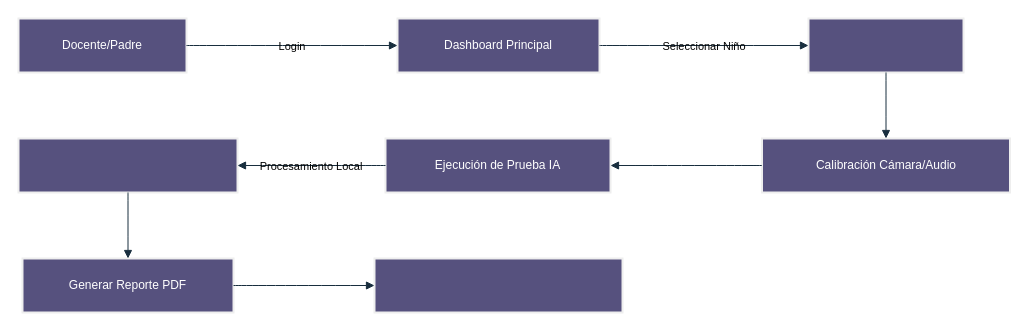
This 1028x330 diagram has some shape labels left out. The shapes that lost their labels are listed below. From the top down, each one's box as (x1, y1, x2, y2) in pixels, then its label:
(807, 17, 964, 73): Elegir Prueba
(17, 137, 238, 193): Resultados Inmediatos
(373, 257, 623, 313): Guardar en Historial Excel
